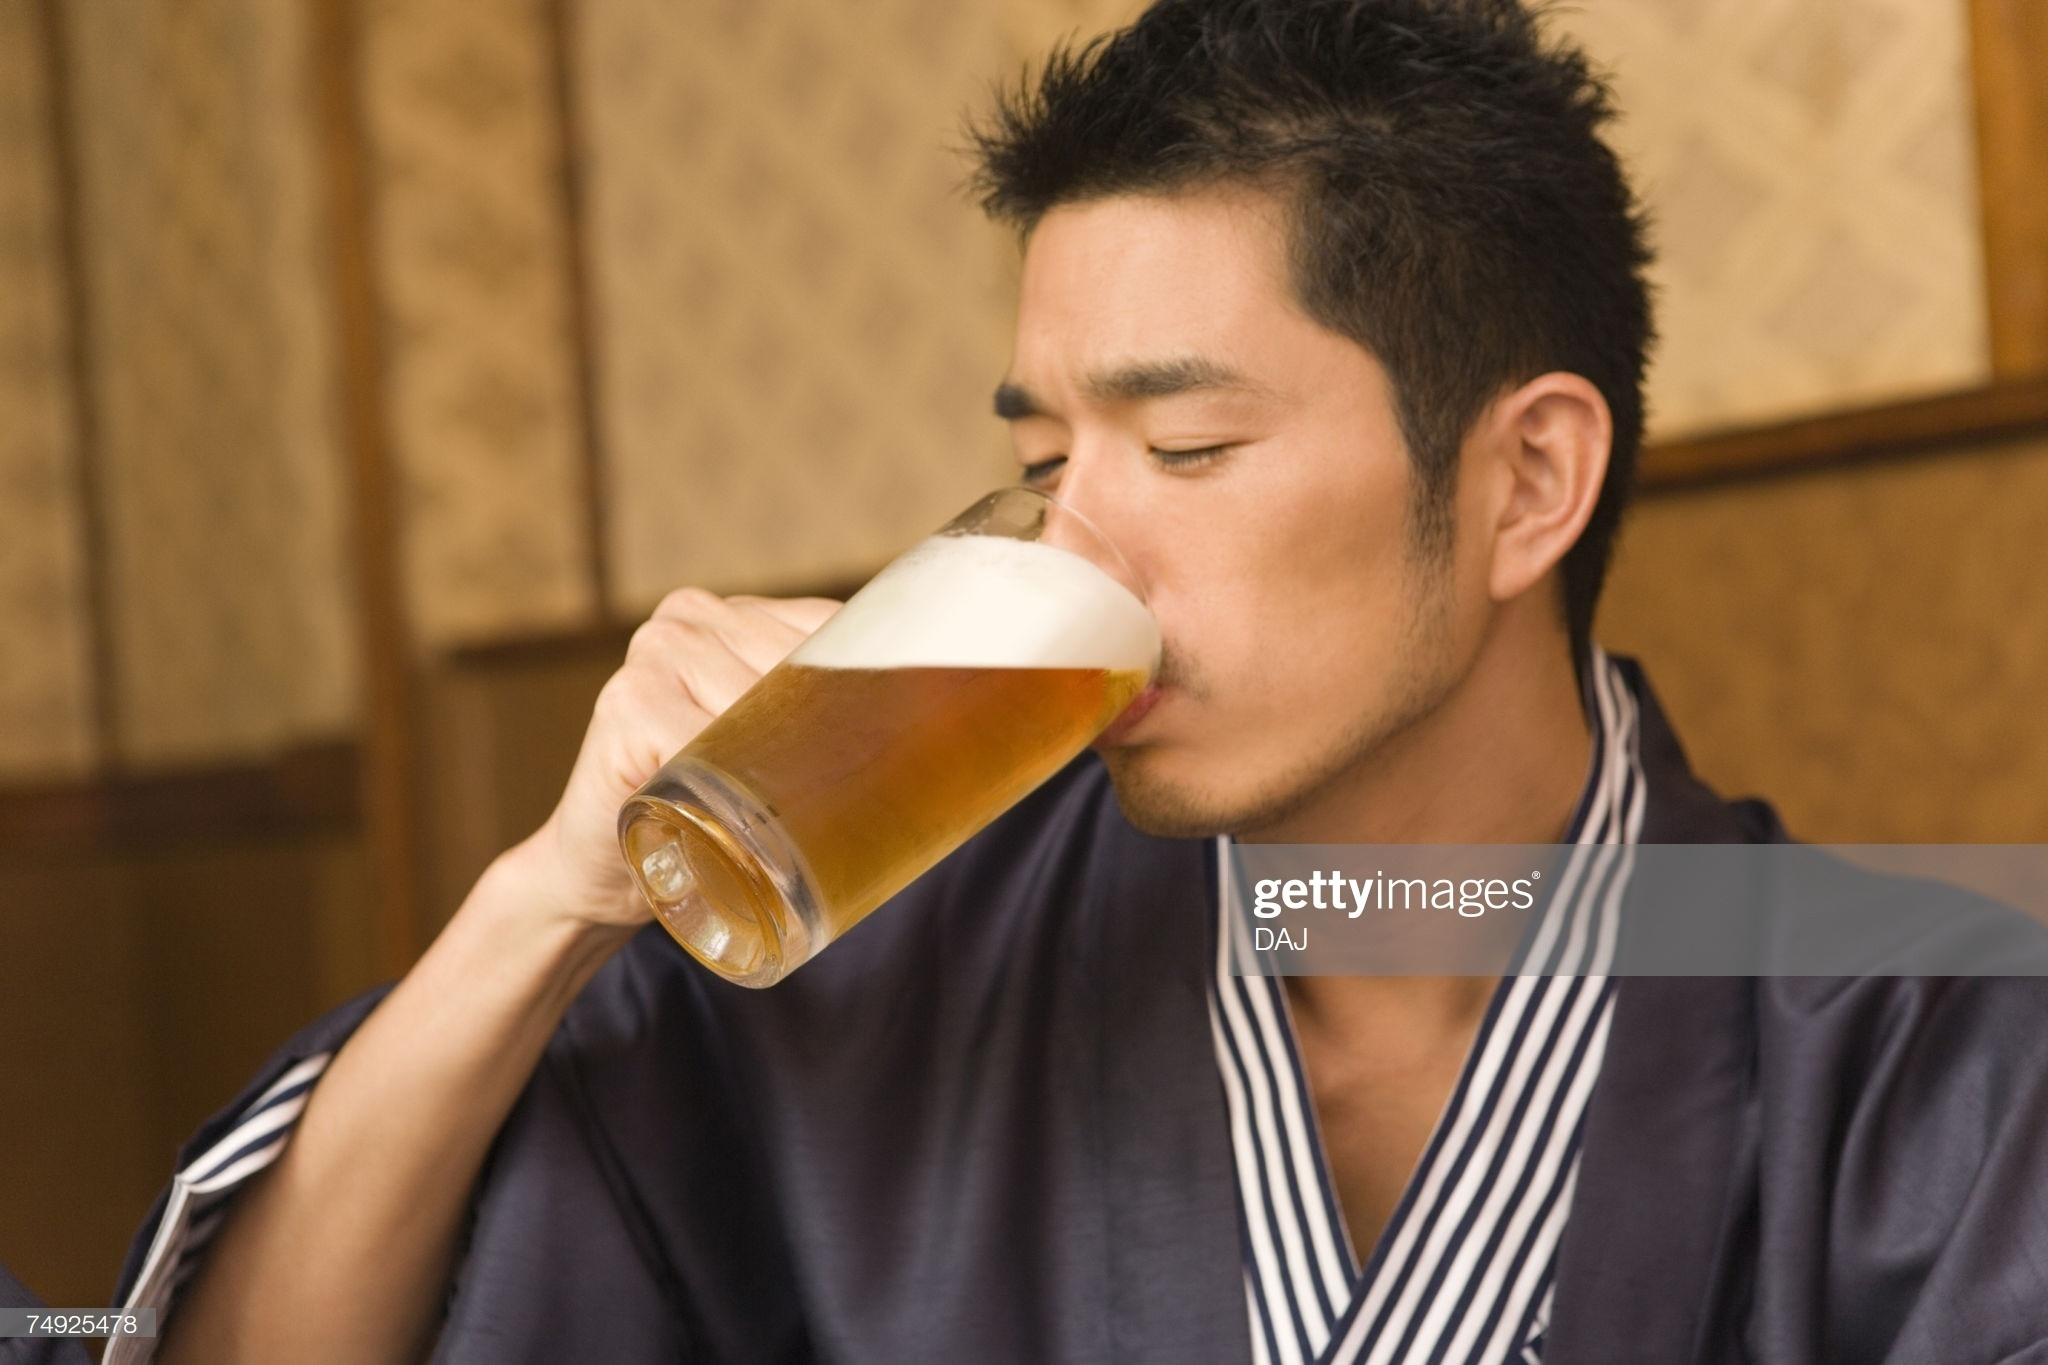whiskey: (617, 478, 1179, 1044)
